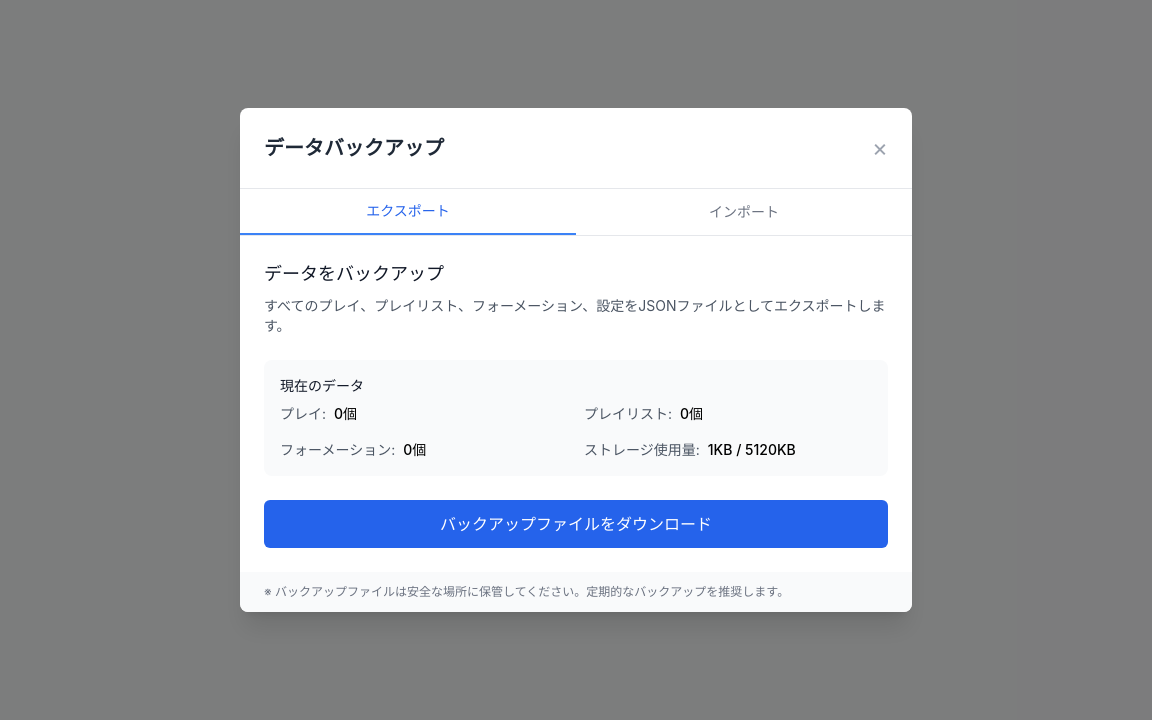
BackupManager Component › モーダル操作 › ローディング中は×ボタンが無効化されること
Click the button "バックアップファイルをダウンロード": (576, 524) top-left (264, 500), bottom-right (888, 548)
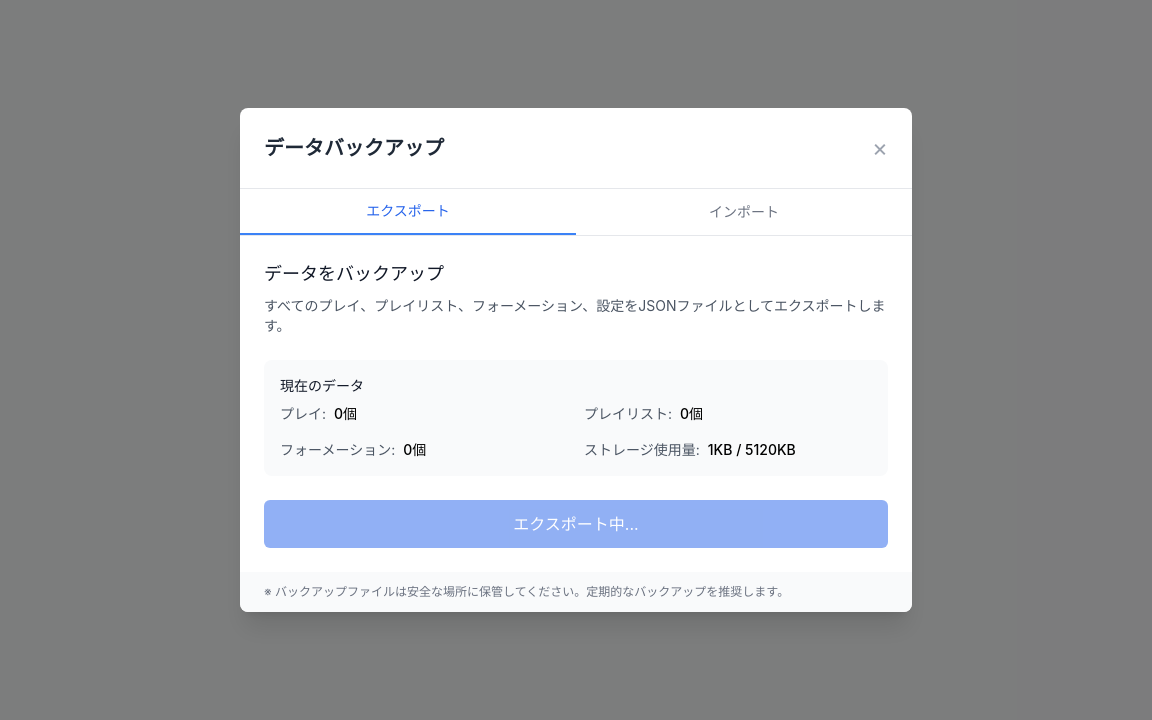
Expected: the button "×" is disabled, top-left (872, 132), bottom-right (888, 164)
Expected: the button "エクスポート中..." is shown, top-left (264, 500), bottom-right (888, 548)
